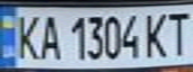0: (103, 11, 124, 61)
1: (63, 12, 87, 61)
3: (84, 12, 106, 61)
4: (121, 11, 145, 60)
A: (36, 11, 63, 61)
K: (9, 10, 42, 61), (142, 9, 172, 60)
T: (163, 8, 193, 57)
